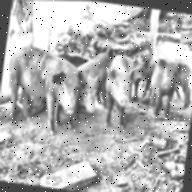boar: (8, 35, 88, 127), (92, 46, 146, 133), (137, 51, 192, 126)
